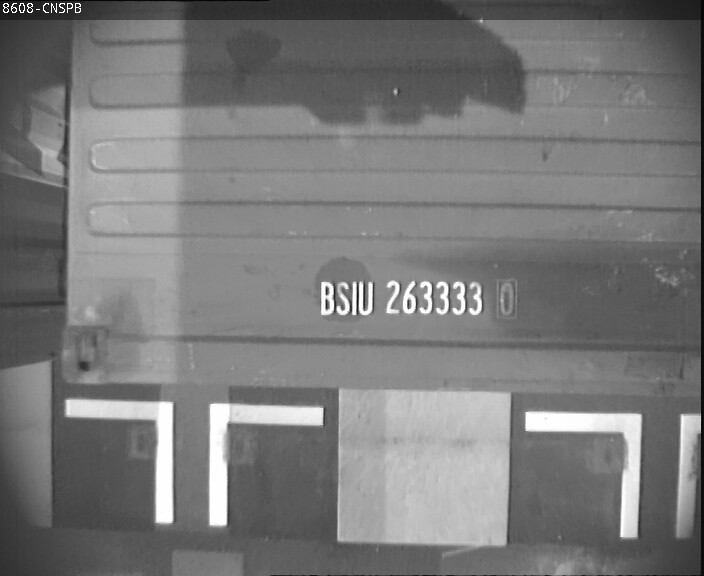groundmarker_1: (66, 395, 323, 524), (524, 412, 704, 540)
